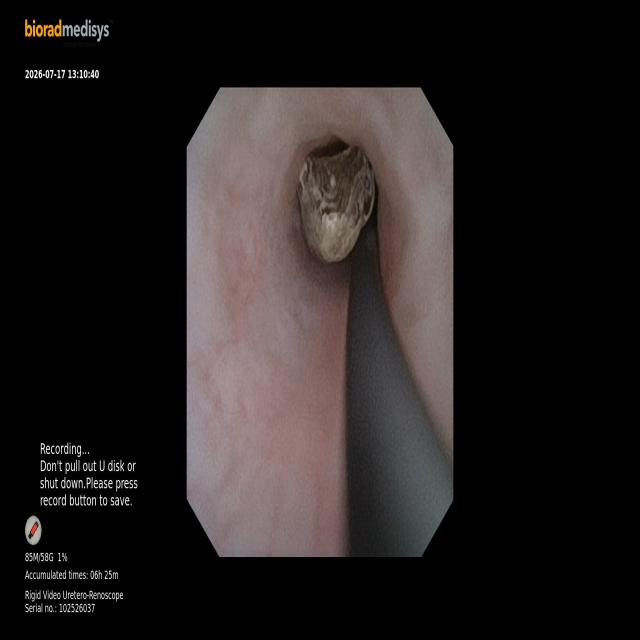stone-new: (298, 148, 374, 262)
